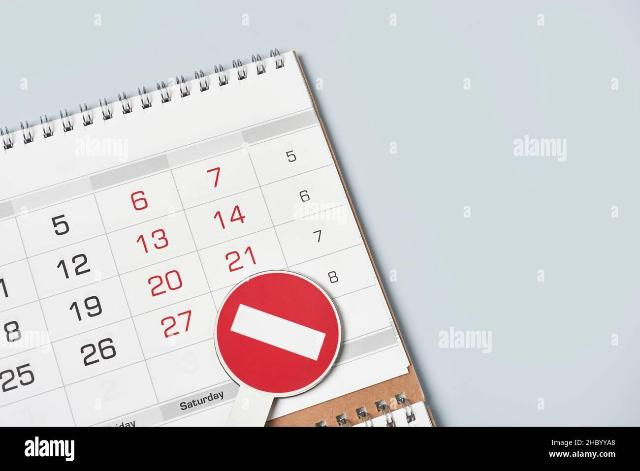B2: (214, 270, 342, 398)
